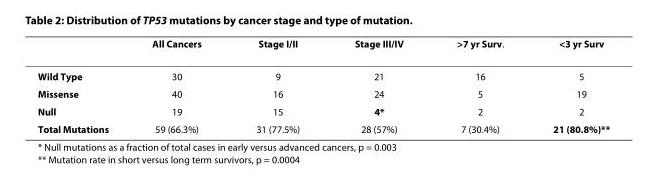table: (36, 36, 609, 134)
table column: (326, 36, 429, 134), (129, 36, 228, 134), (228, 36, 326, 134), (429, 36, 527, 134), (36, 36, 129, 134), (527, 36, 609, 134)
table column header: (36, 36, 609, 59)
table row: (36, 59, 609, 84), (36, 36, 609, 59), (36, 101, 609, 119), (36, 84, 609, 101), (36, 119, 609, 134)
